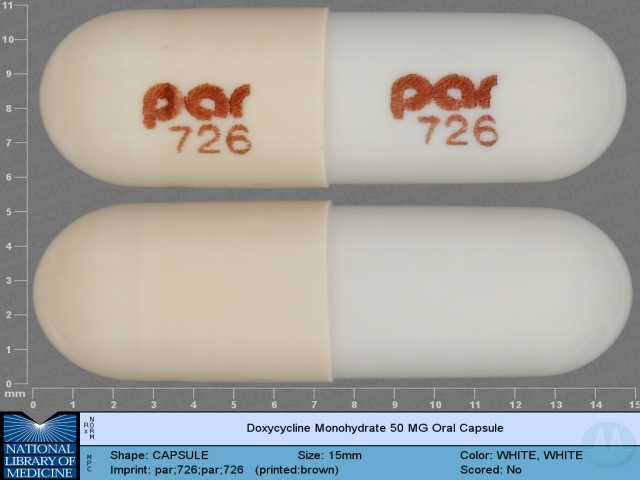capsule: (34, 197, 636, 386), (35, 5, 629, 194)
